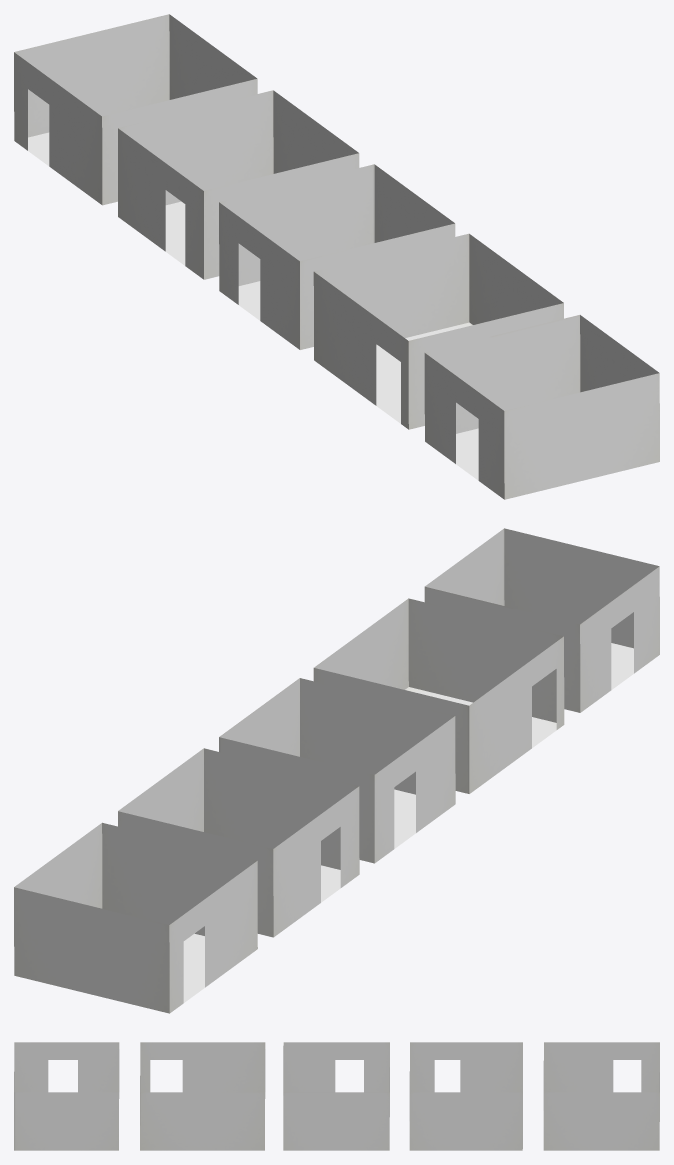
The model's file is roomb.glb.
3 renders of one model, top to bottom at view 1: azimuth 30°, elevation 25°; view 2: azimuth 150°, elevation 25°; view 3: azimuth 270°, elevation 25°, orthographic. The views are drawn at different scales.
Visible parts, largest first — view 1: Plane.012, Plane.011, Plane.008, Plane.009, Plane.010; view 2: Plane.008, Plane.011, Plane.009, Plane.010, Plane.012; view 3: Plane.011, Plane.008, Plane.009, Plane.010, Plane.012.
Part boxes in pixels (box(x1,y1,x2,y2)): Plane.012: box(424, 315, 659, 499); Plane.011: box(313, 233, 563, 429); Plane.008: box(14, 14, 257, 205); Plane.009: box(118, 90, 359, 279); Plane.010: box(219, 164, 455, 349); Plane.008: box(14, 822, 257, 1013); Plane.011: box(313, 598, 564, 793); Plane.009: box(118, 748, 359, 937); Plane.010: box(219, 678, 455, 863); Plane.012: box(424, 528, 659, 712); Plane.011: box(140, 1042, 265, 1150); Plane.008: box(543, 1042, 659, 1150); Plane.009: box(409, 1042, 522, 1150); Plane.010: box(283, 1042, 389, 1150); Plane.012: box(14, 1042, 119, 1150).
Bounding box in the file's own units: 0.5827 × 0.3177 × 3.18.
1 material, 1 textured.
